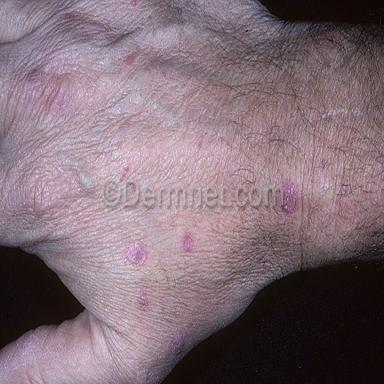lichen: (282, 182, 299, 213), (126, 241, 147, 265), (137, 291, 149, 310), (182, 234, 193, 251)
